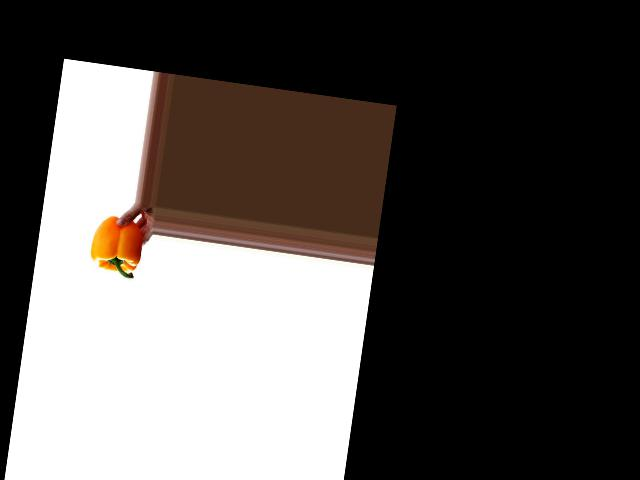bell_pepper: (86, 212, 145, 282)
